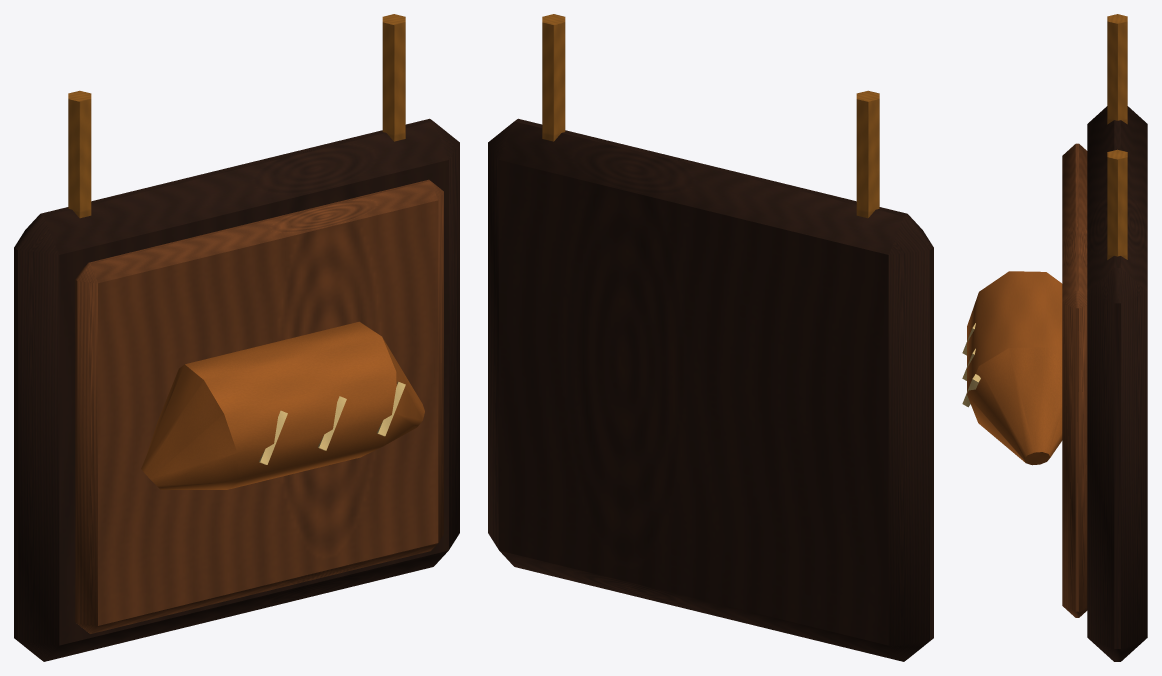
File: Placa_da_padaria_LOD0.fbx
3 views of the same model, side by side, from view 1: azimuth 30°, elevation 25°; view 2: azimuth 150°, elevation 25°; view 3: azimuth 270°, elevation 25° (orthographic). The views are drawn at different scales.
Parts seen in each view (by area): view 1: Placa_da_padaria_LOD0; view 2: Placa_da_padaria_LOD0; view 3: Placa_da_padaria_LOD0.
Boxes of the visible parts, left/top/right/bottom form: Placa_da_padaria_LOD0: left=14, top=14, right=459, bottom=661; Placa_da_padaria_LOD0: left=488, top=14, right=933, bottom=661; Placa_da_padaria_LOD0: left=962, top=14, right=1147, bottom=661.
Size of the model in its own units: 135 by 162 by 55.4.
1 material, 1 textured.
